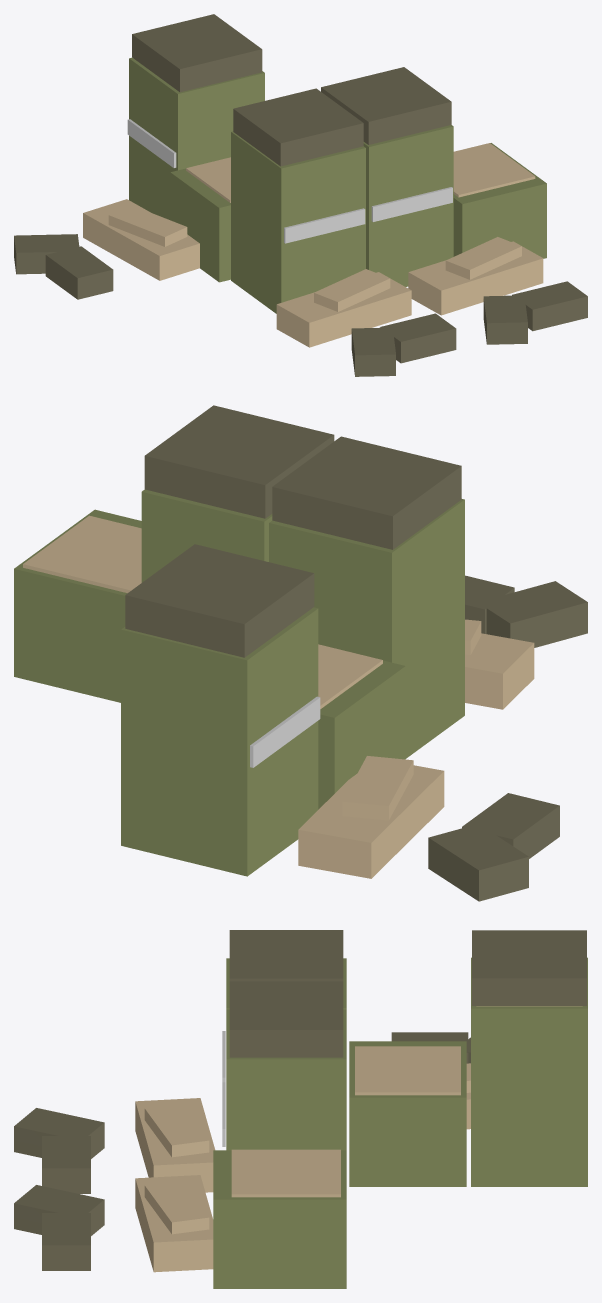
The model's file is SM_HescoEsquina_v3_RemateSacos_e1_Danado_LOD1.fbx.
3 renders of one model, top to bottom at view 1: azimuth 30°, elevation 25°; view 2: azimuth 150°, elevation 25°; view 3: azimuth 270°, elevation 25°, orthographic. The views are drawn at different scales.
Visible parts, largest first — view 1: SM_hesco_piezas_v13_LOD1; view 2: SM_hesco_piezas_v13_LOD1; view 3: SM_hesco_piezas_v13_LOD1.
Part boxes in pixels (bbox=[...]): SM_hesco_piezas_v13_LOD1: bbox=[14, 14, 587, 376]; SM_hesco_piezas_v13_LOD1: bbox=[14, 405, 587, 901]; SM_hesco_piezas_v13_LOD1: bbox=[14, 930, 587, 1288].
Bounding box in the file's own units: 5.25 × 2.09 × 5.25.
